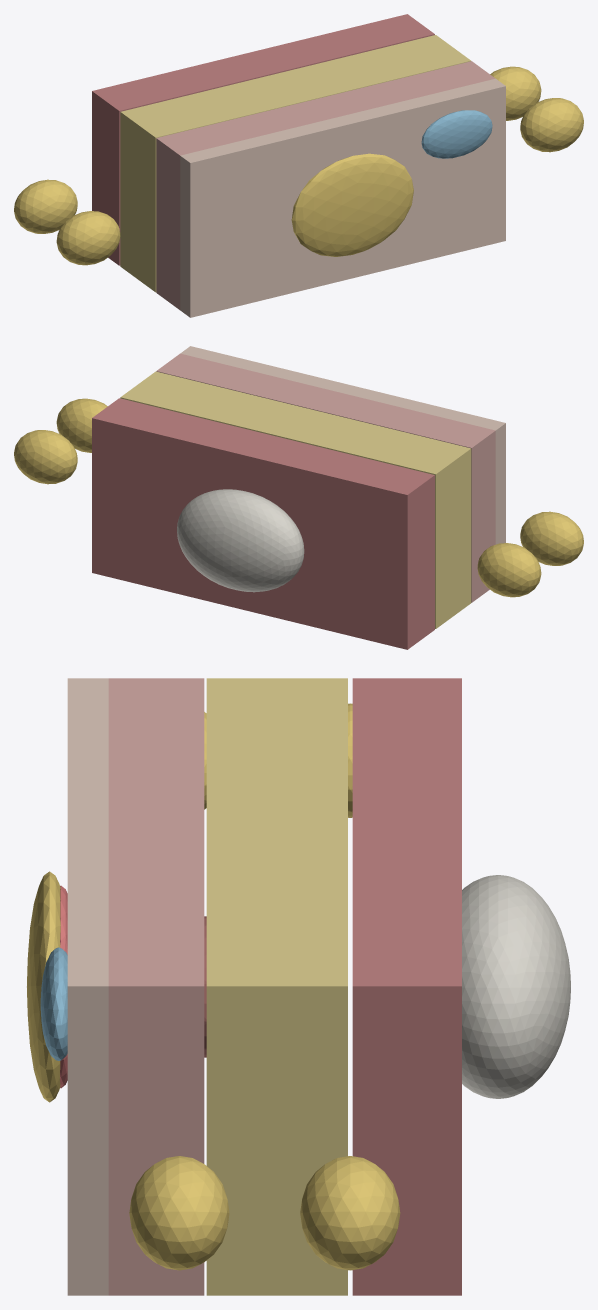
File: skin_pressure_injury_educational.glb
3 renders of one model, top to bottom at view 1: azimuth 30°, elevation 25°; view 2: azimuth 150°, elevation 25°; view 3: azimuth 270°, elevation 25°, orthographic. The views are drawn at different scales.
Visible parts, largest first — view 1: Epidermis, Jaringan Lemak, Otot, Dermis, Tekanan di Atas Tulang, Area Sakrum, Area Trokanter, Area Tumit, Kelembapan Inkontinensia, Area Siku; view 2: Otot, Jaringan Lemak, Dermis, Tonjolan Tulang, Epidermis, Area Tumit, Area Siku, Area Sakrum, Area Trokanter; view 3: Jaringan Lemak, Otot, Dermis, Epidermis, Tonjolan Tulang, Area Siku, Area Trokanter, Tekanan di Atas Tulang, Kelembapan Inkontinensia.
Boxes of the visible parts, left/top/right/bottom form: Epidermis: left=180, top=78, right=505, bottom=317; Jaringan Lemak: left=120, top=35, right=470, bottom=292; Otot: left=92, top=14, right=434, bottom=265; Dermis: left=156, top=61, right=495, bottom=309; Tekanan di Atas Tulang: left=291, top=153, right=413, bottom=256; Area Sakrum: left=56, top=211, right=120, bottom=265; Area Trokanter: left=520, top=98, right=583, bottom=152; Area Tumit: left=14, top=179, right=77, bottom=233; Kelembapan Inkontinensia: left=421, top=110, right=492, bottom=158; Area Siku: left=490, top=66, right=541, bottom=120; Otot: left=92, top=398, right=434, bottom=649; Jaringan Lemak: left=120, top=371, right=471, bottom=628; Dermis: left=156, top=353, right=495, bottom=602; Tonjolan Tulang: left=177, top=489, right=304, bottom=592; Epidermis: left=180, top=346, right=505, bottom=544; Area Tumit: left=477, top=543, right=541, bottom=597; Area Siku: left=14, top=430, right=77, bottom=484; Area Sakrum: left=520, top=511, right=583, bottom=565; Area Trokanter: left=56, top=398, right=107, bottom=452; Jaringan Lemak: left=206, top=678, right=347, bottom=1295; Otot: left=352, top=678, right=461, bottom=1295; Dermis: left=108, top=678, right=204, bottom=1295; Epidermis: left=67, top=678, right=108, bottom=1295; Tonjolan Tulang: left=462, top=875, right=570, bottom=1098; Area Siku: left=300, top=1156, right=400, bottom=1270; Area Trokanter: left=129, top=1156, right=229, bottom=1270; Tekanan di Atas Tulang: left=27, top=871, right=60, bottom=1102; Kelembapan Inkontinensia: left=40, top=947, right=67, bottom=1060.
Bounding box in the file's own units: 5.3 × 1.5 × 2.39.
